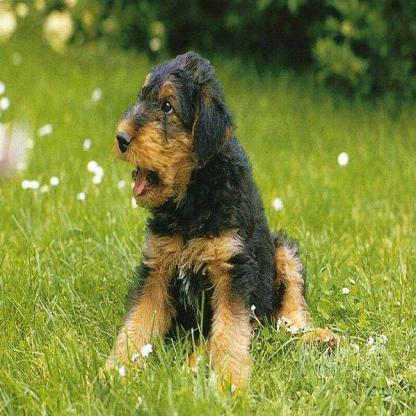dog: (105, 53, 311, 366)
